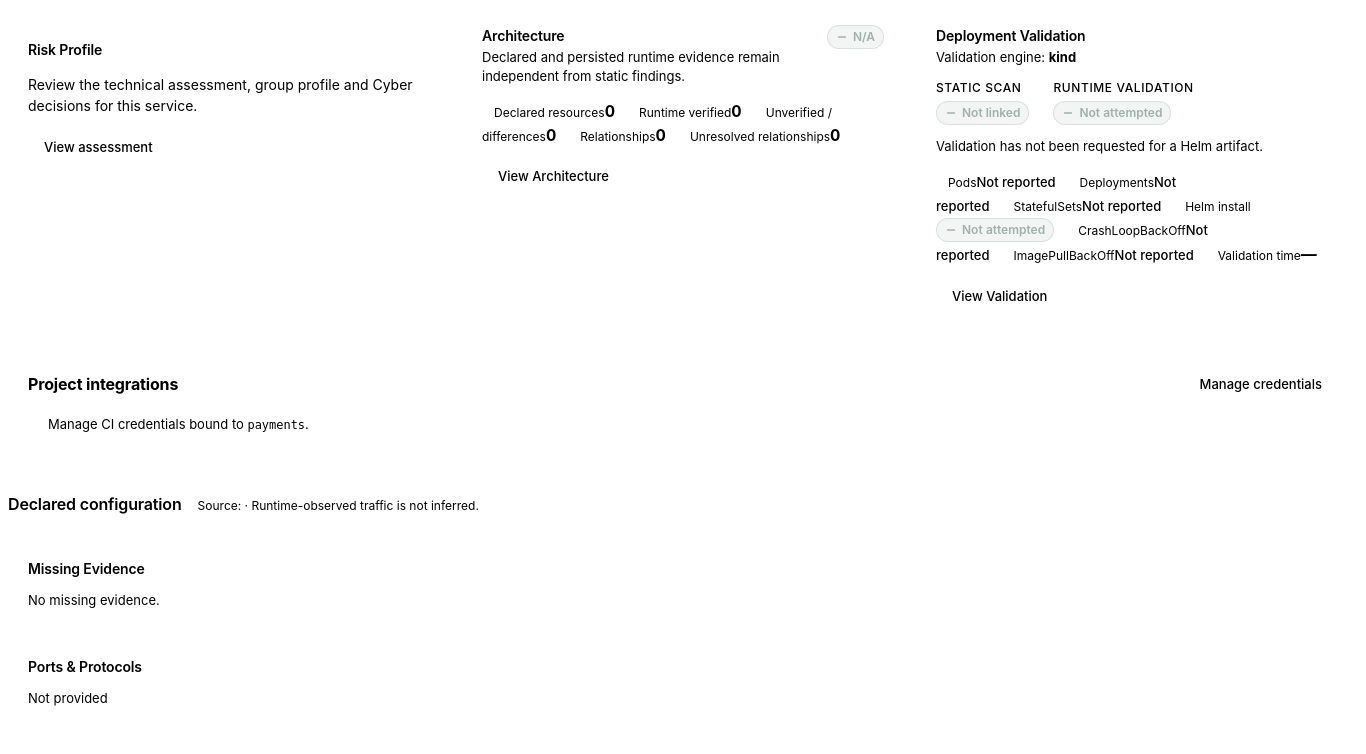
lets a service editor revoke an active credential without issuing a new one
(page scrolled)
Click the button "Manage credentials": x=1261, y=384 [1184,366,1338,402]
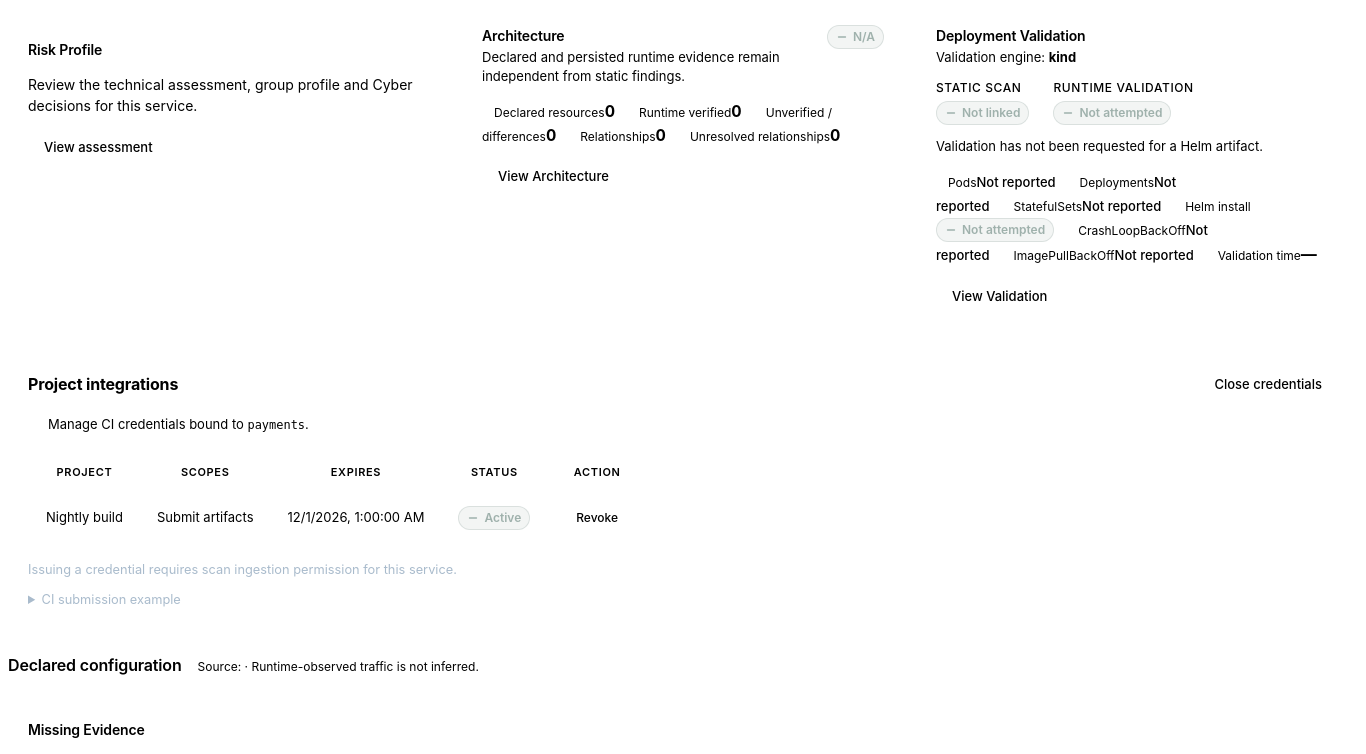
Click the button with aria-label "Revoke Nightly build": x=597, y=518 [564,504,630,532]
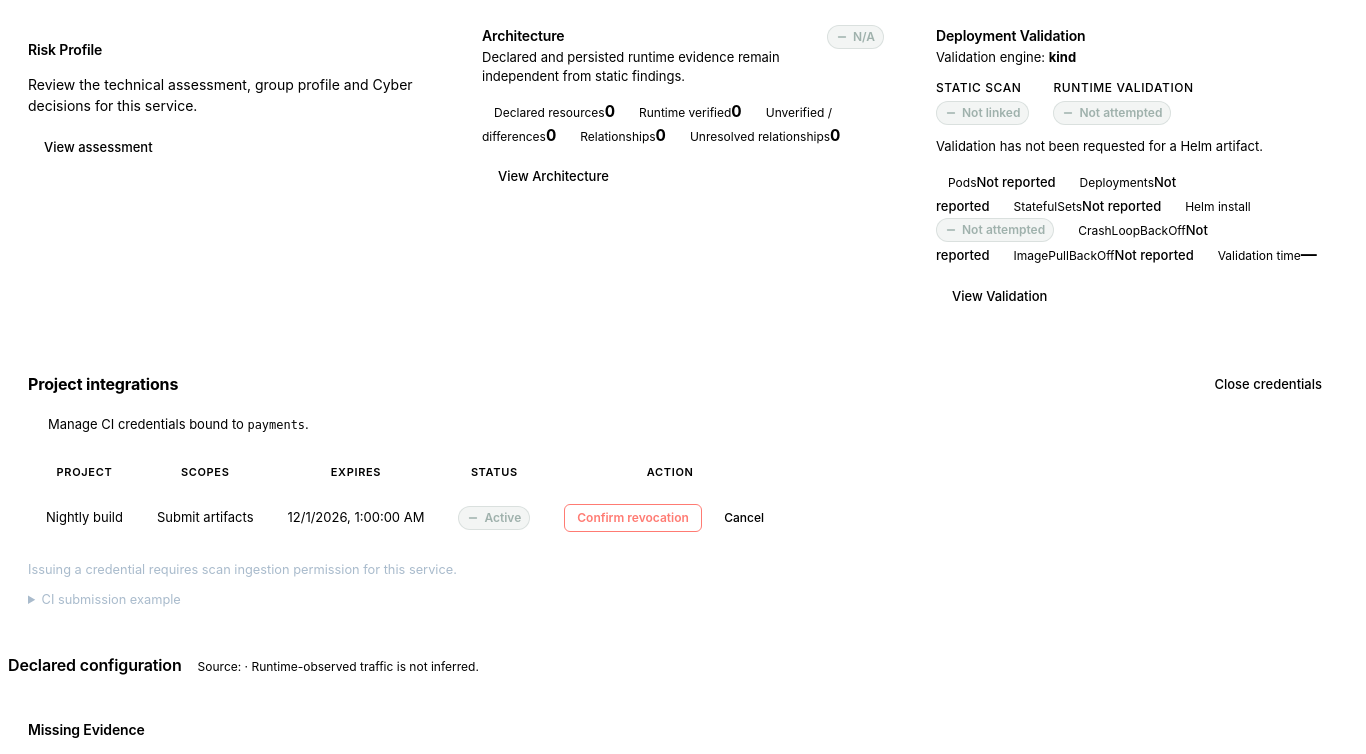
Click the button "Confirm revocation": x=633, y=518 [564,504,702,532]
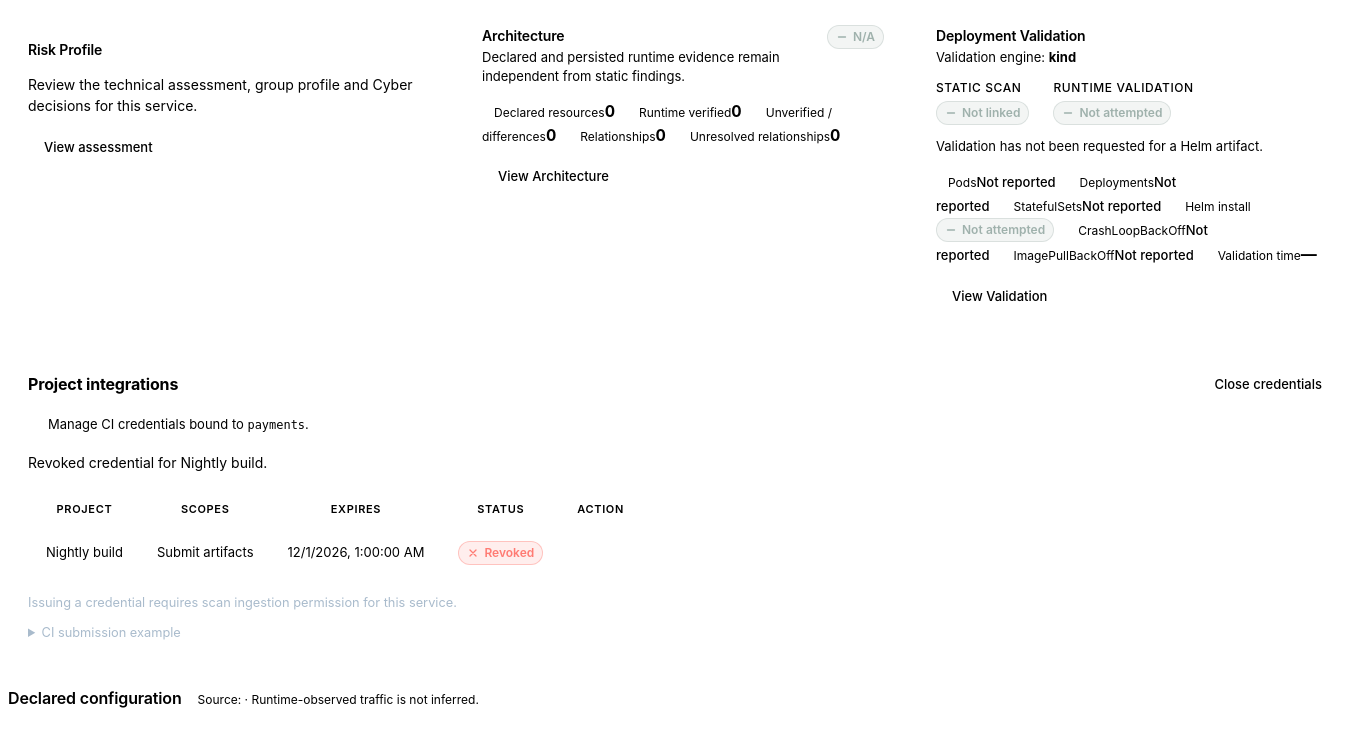
Result: the text "Revoked credential for Nightly build." is shown at [28,454,267,470]
